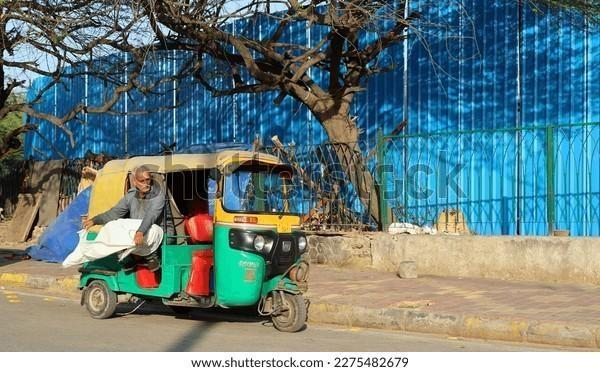keke: (74, 146, 311, 334)
